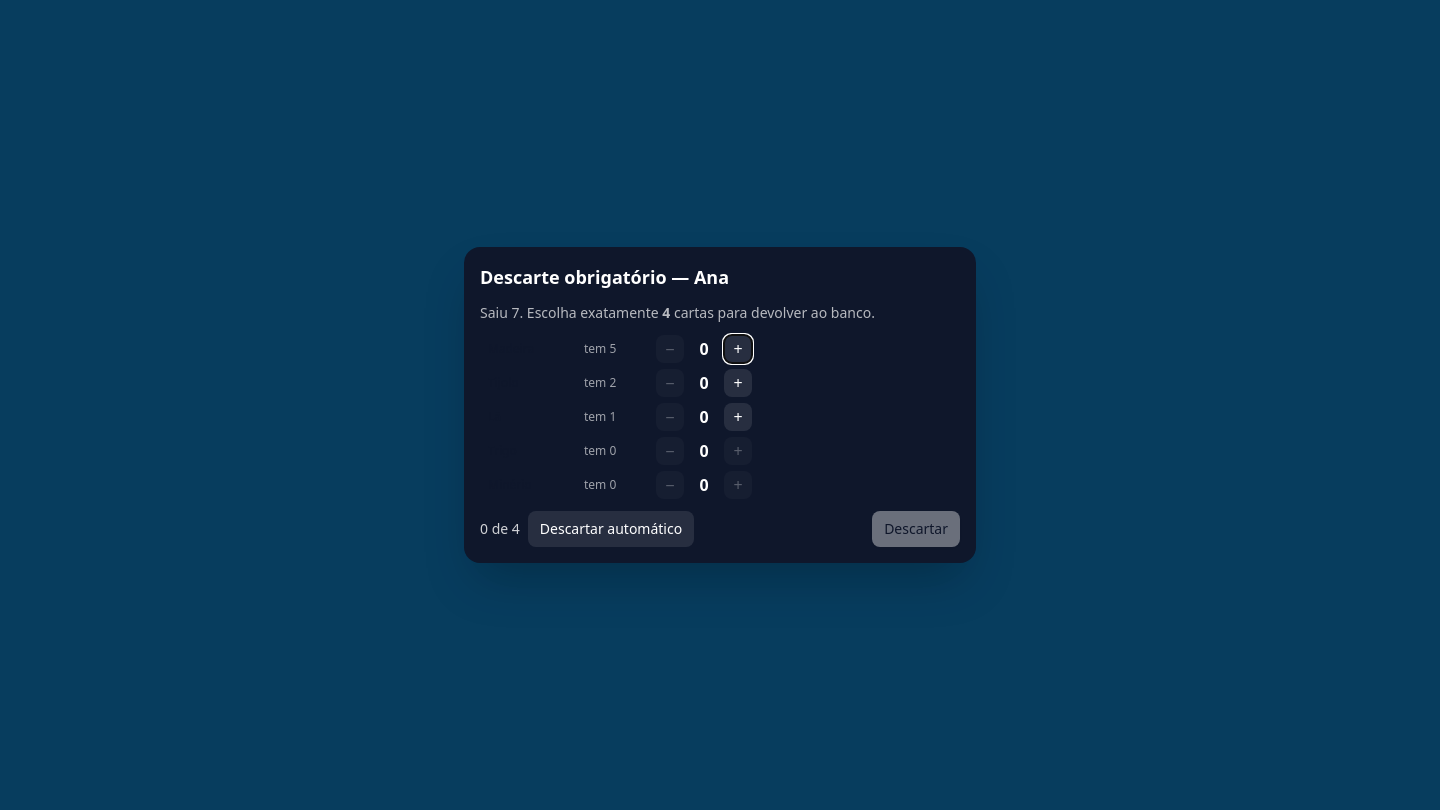
Test: modal de descarte › não deixa confirmar antes de a soma bater
Check: the button "Descartar" is disabled, box [872,511,960,547]
Check: the text with test id "contador-descarte" reads "0 de 4", box [480,519,520,539]
Click the button named "mais Madeira": click(738, 349) [724,335,752,363]
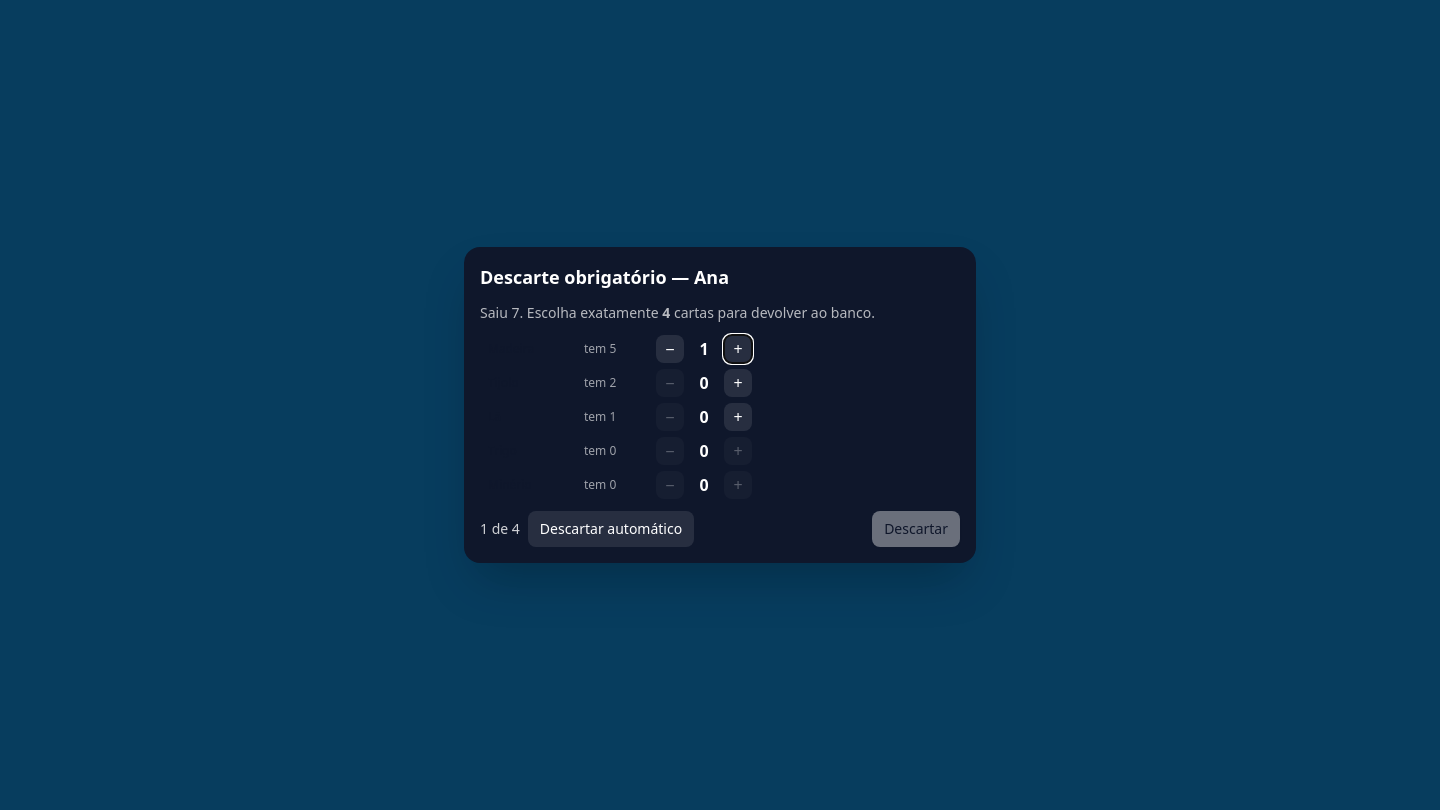
Click the button named "mais Madeira": click(738, 349) [724,335,752,363]
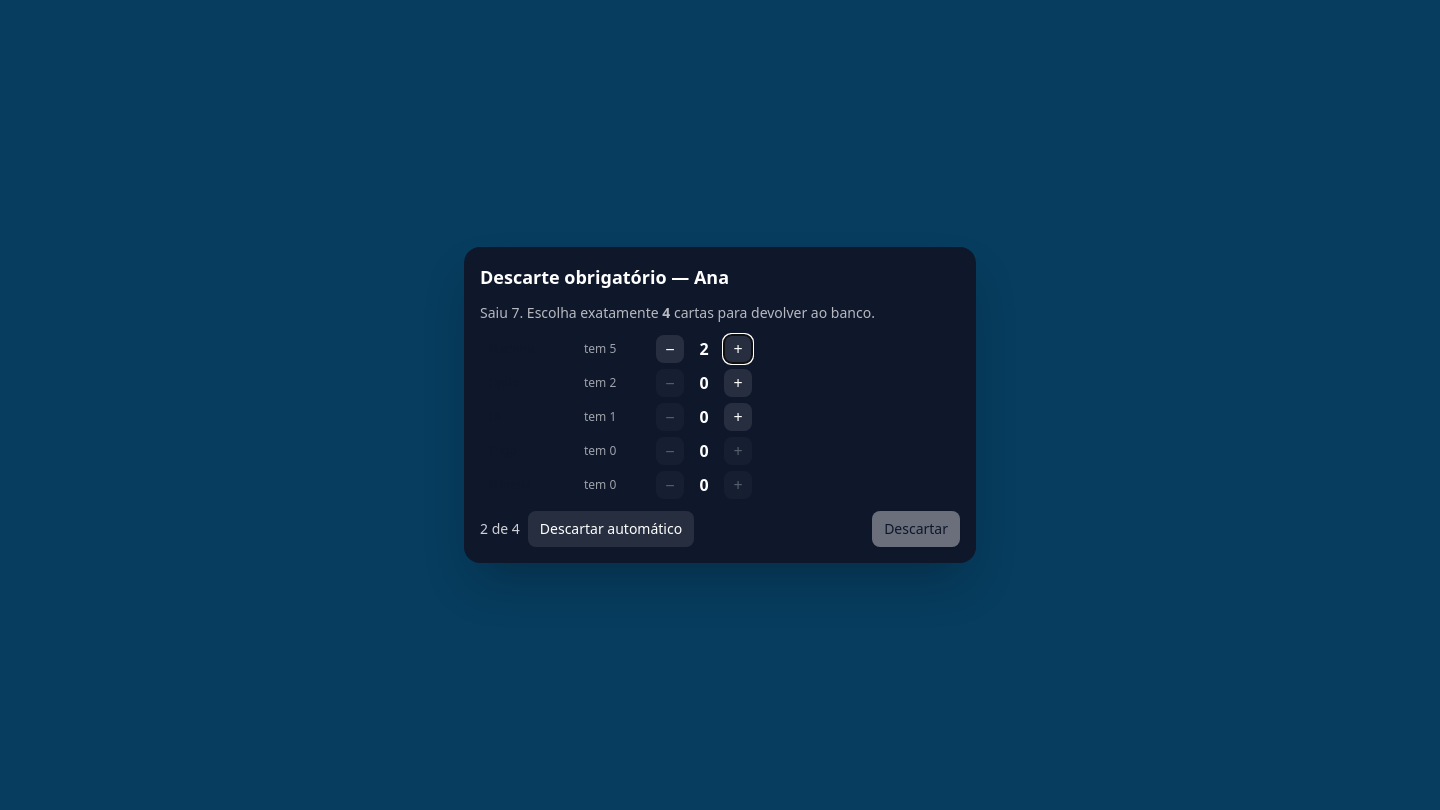
Click the button named "mais Madeira": click(738, 349) [724,335,752,363]
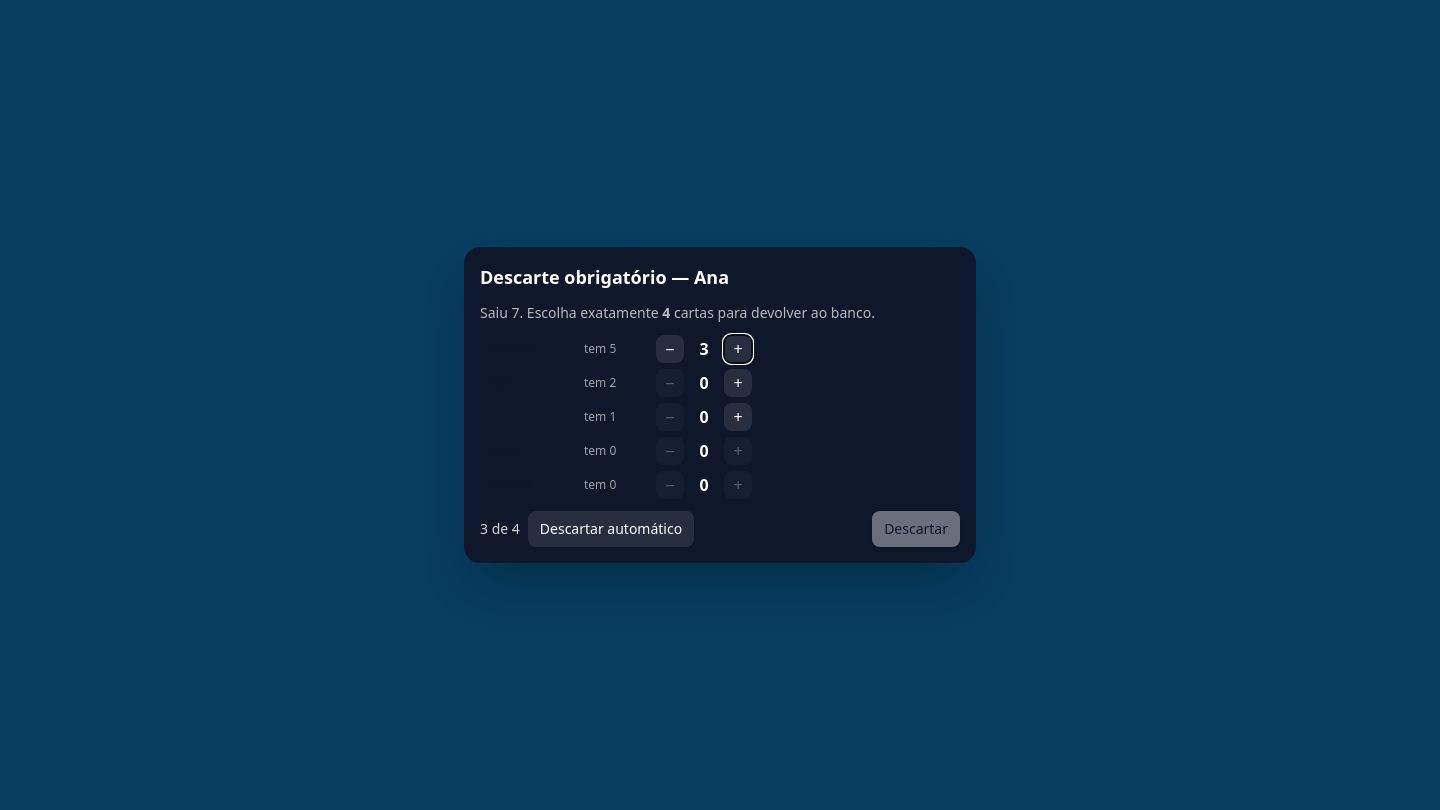
Click the button named "mais Madeira": click(738, 349) [724,335,752,363]
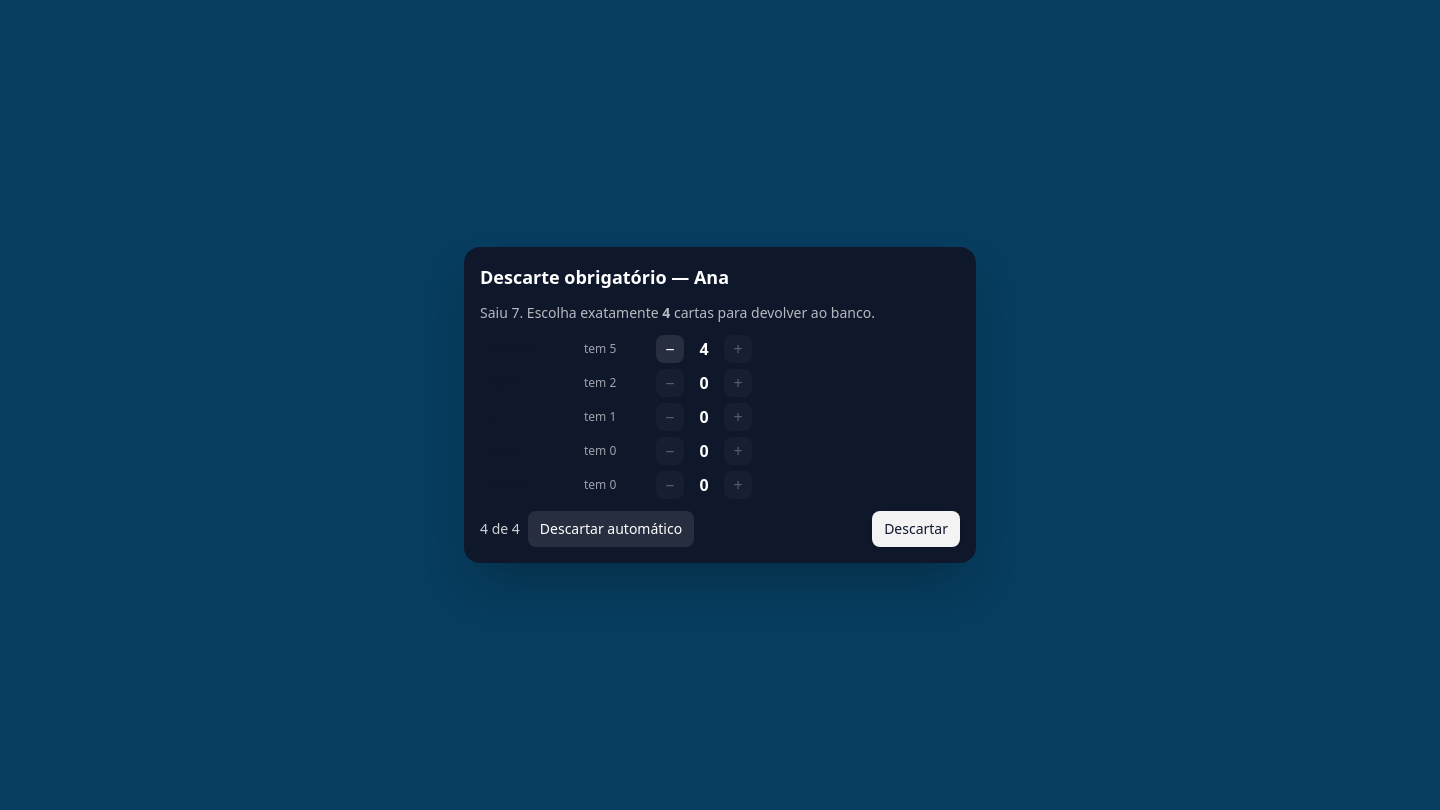
Check: the text with test id "contador-descarte" reads "4 de 4", box [480,519,520,539]
Check: the button "Descartar" is enabled, box [872,511,960,547]
